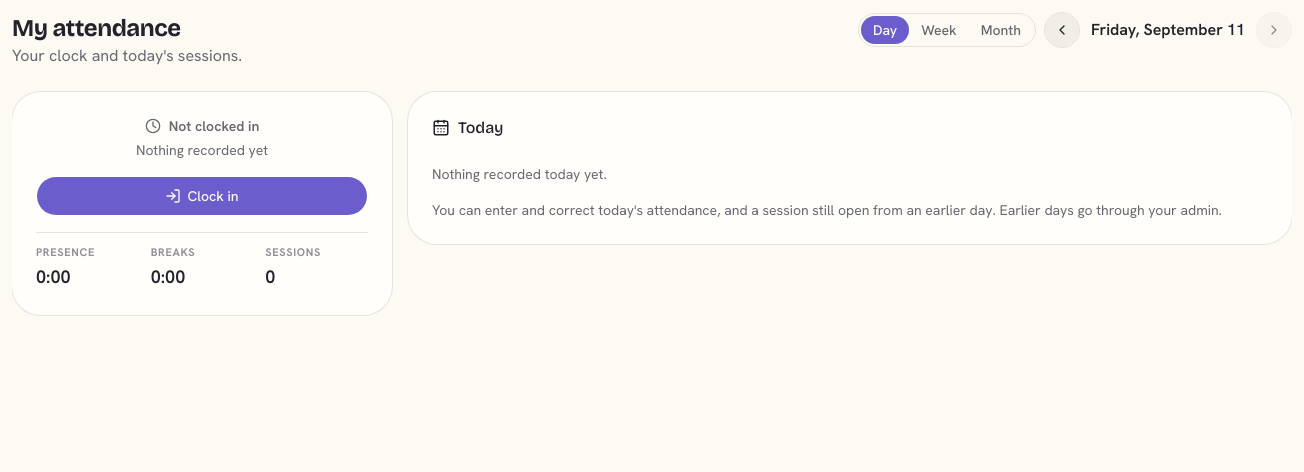
it: MyAttendanceScreen › the week and the month › switches to the month and steps back through it
Click the tab "Month": (1001,30) top-left (969, 16), bottom-right (1033, 44)
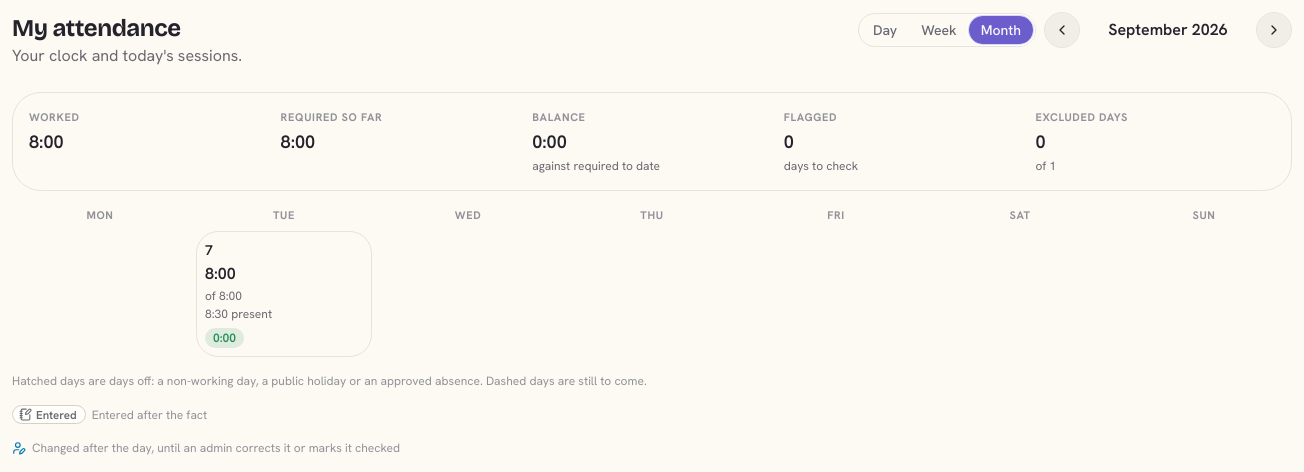
Result: the text "September 2026" is shown at top-left (1108, 19), bottom-right (1228, 40)
Result: the text "Required so far" is shown at top-left (281, 110), bottom-right (382, 124)
Click the button named "Previous": (1062,30) top-left (1044, 12), bottom-right (1080, 48)
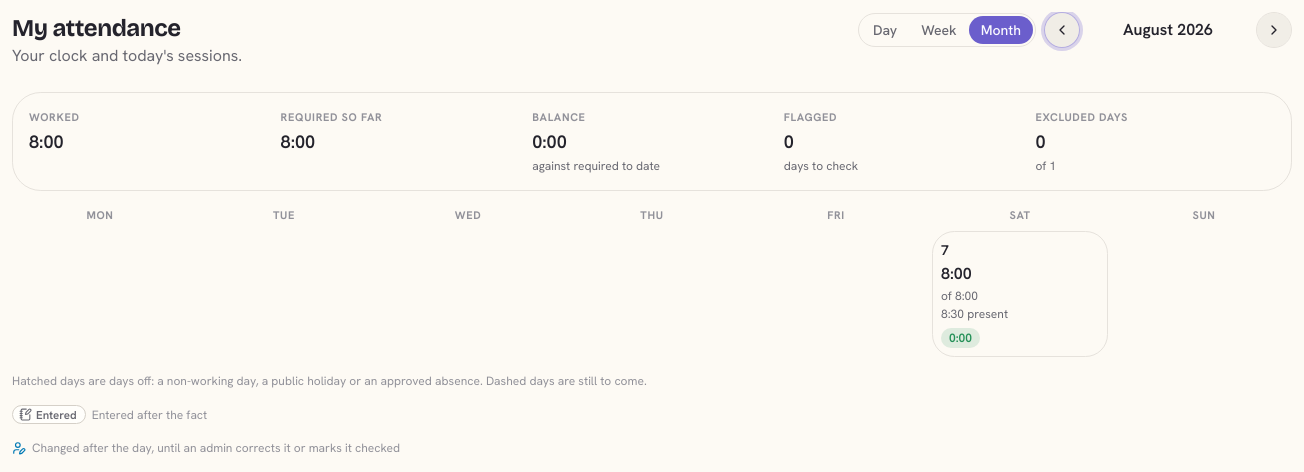
Result: the text "August 2026" is shown at top-left (1123, 19), bottom-right (1213, 40)
